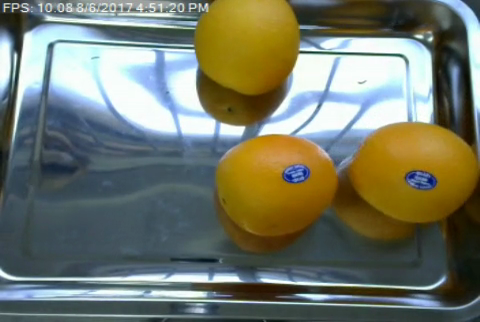Orange: (347, 121, 478, 221), (214, 133, 338, 237), (191, 0, 301, 95)
